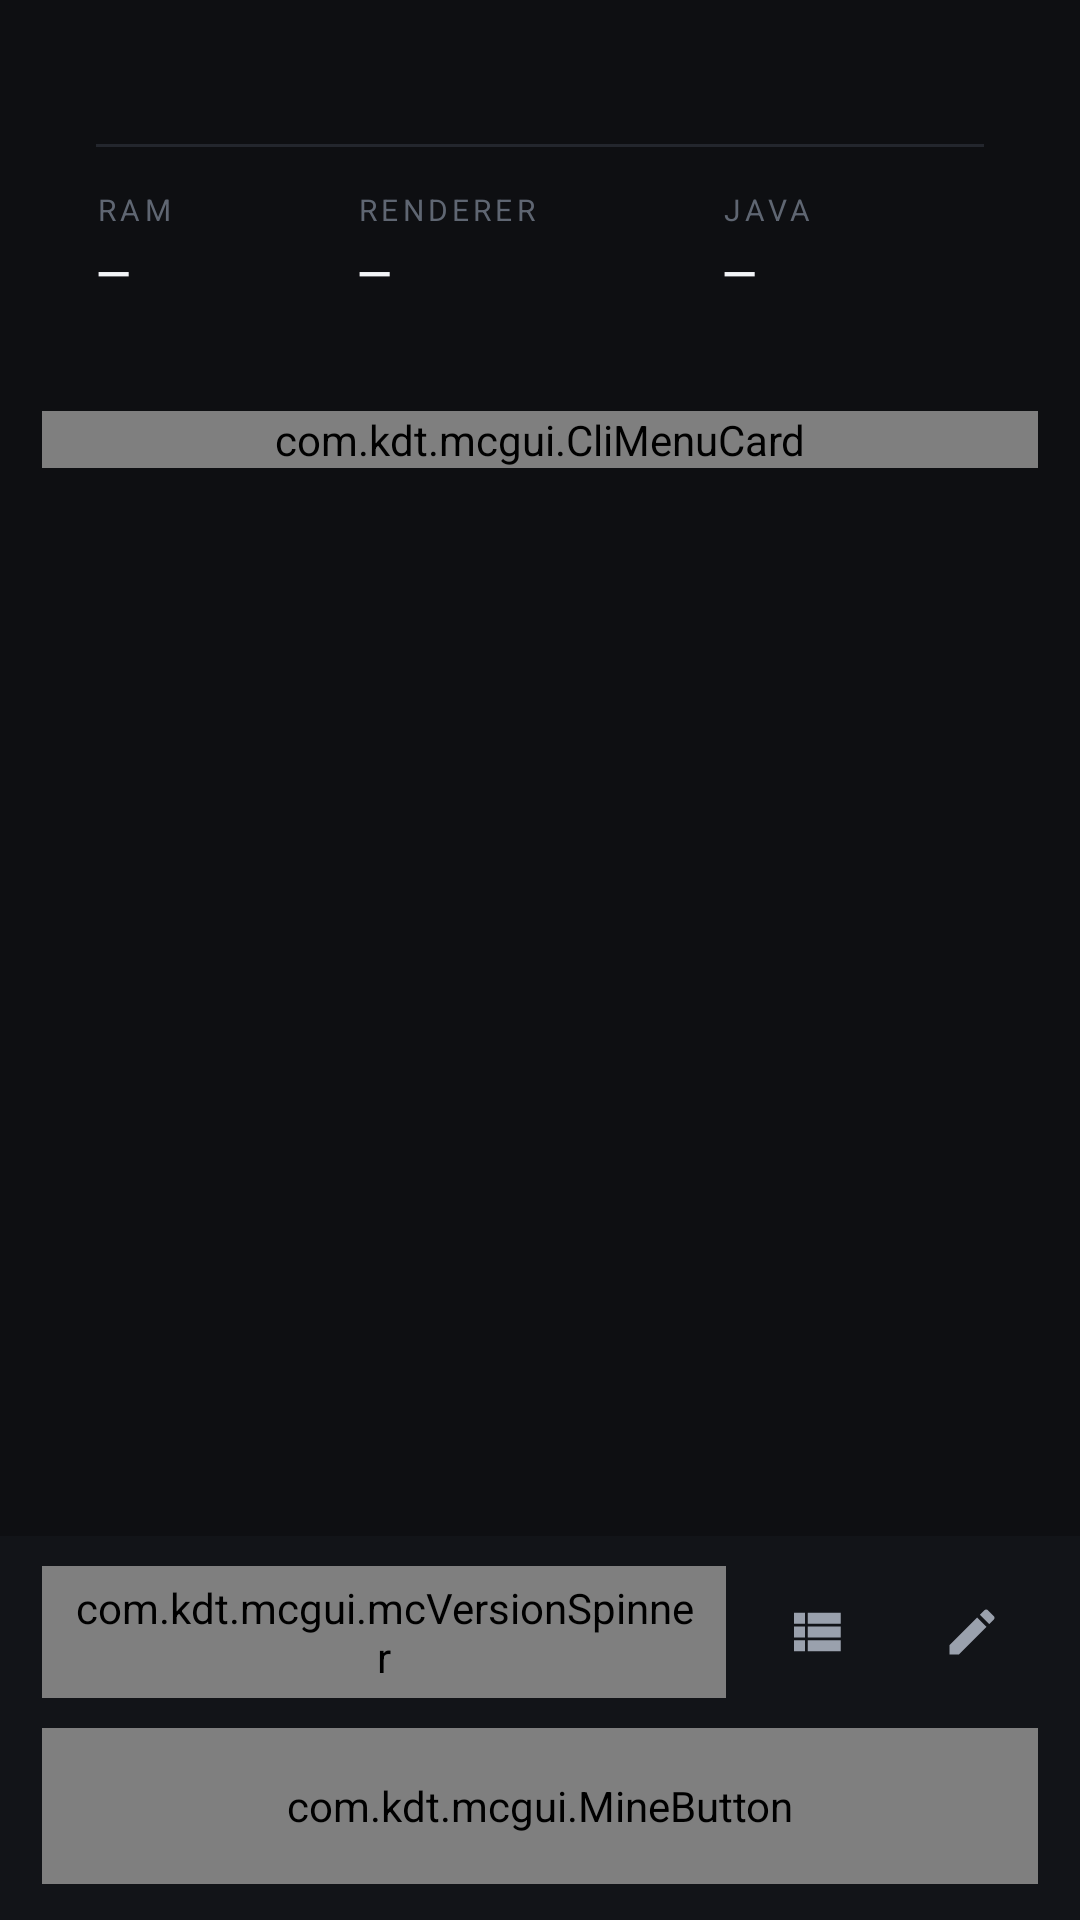

Named icons in this screenshot (1080 × 1920) and their centers, [x,y]:
Edit profil: [972,1632]
Kelola path profil: [817,1632]
